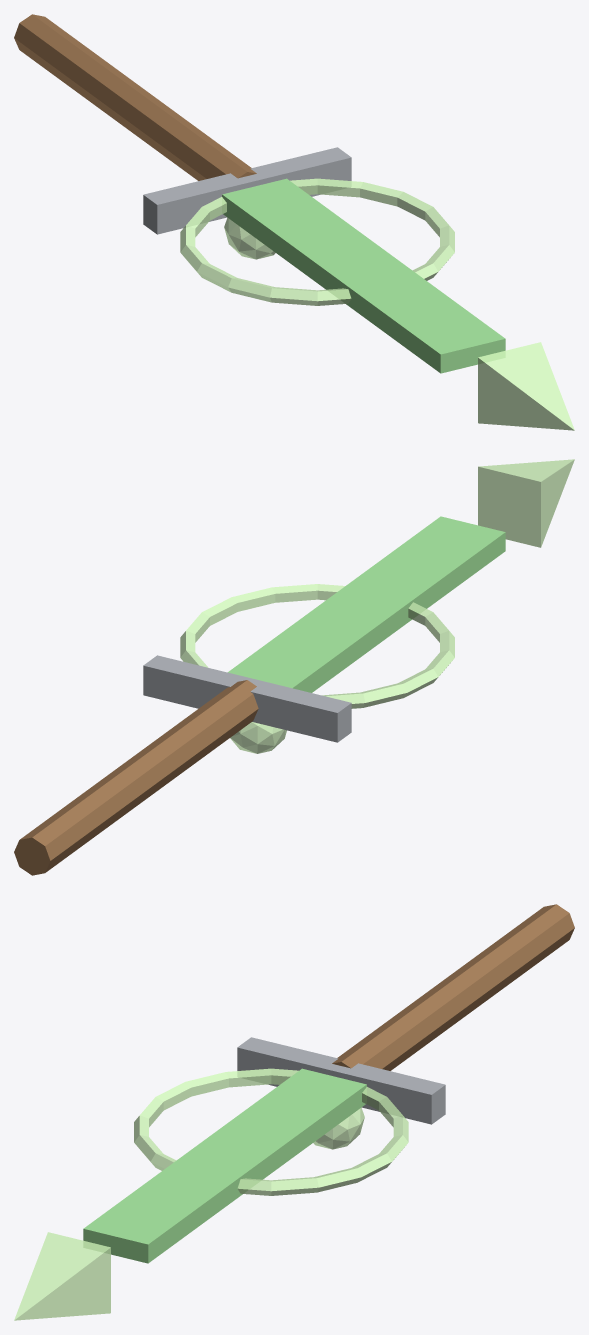
The model's file is 03_magic_weapon_upgrade.glb.
The picture shows the model from 3 angles, top to bottom: view 1: azimuth 30°, elevation 25°; view 2: azimuth 150°, elevation 25°; view 3: azimuth 330°, elevation 25°; orthographic projection.
Visible parts, largest first — view 1: enchanted_blade_or_focus, weapon_handle, rune_orbit, weapon_guard, weapon_tip, gem_socket; view 2: enchanted_blade_or_focus, weapon_handle, weapon_guard, weapon_tip, rune_orbit, gem_socket; view 3: enchanted_blade_or_focus, weapon_handle, rune_orbit, weapon_guard, weapon_tip, gem_socket.
Boxes of the visible parts, x1,y1,x2,y2 form: enchanted_blade_or_focus: (222, 178, 505, 373); weapon_handle: (14, 14, 256, 180); rune_orbit: (180, 178, 454, 305); weapon_guard: (143, 147, 351, 234); weapon_tip: (478, 342, 574, 430); gem_socket: (224, 217, 275, 259); enchanted_blade_or_focus: (228, 516, 505, 692); weapon_handle: (14, 680, 258, 875); weapon_guard: (143, 655, 351, 742); weapon_tip: (478, 459, 574, 547); rune_orbit: (180, 584, 454, 708); gem_socket: (230, 722, 286, 753); enchanted_blade_or_focus: (83, 1068, 366, 1263); weapon_handle: (332, 904, 574, 1070); rune_orbit: (134, 1068, 408, 1195); weapon_guard: (237, 1037, 445, 1124); weapon_tip: (14, 1232, 110, 1320); gem_socket: (313, 1107, 364, 1149).
Size of the model in its own units: 0.596 by 0.2178 by 2.32.
